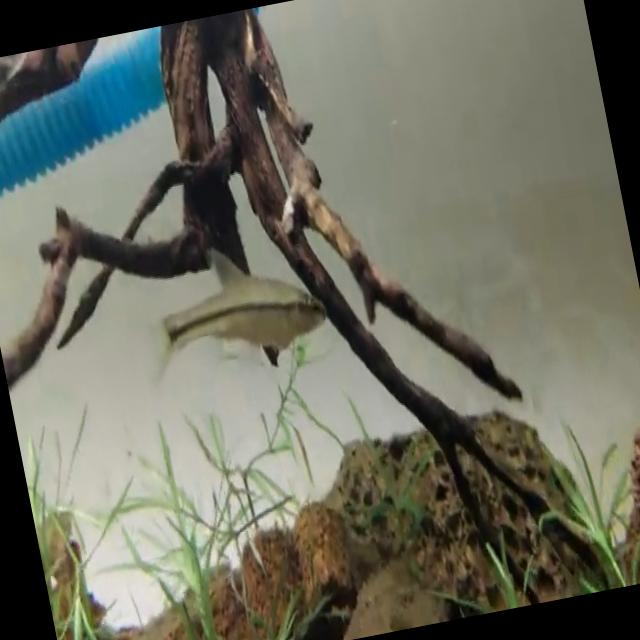Cakil Baligi: (132, 227, 336, 388)
